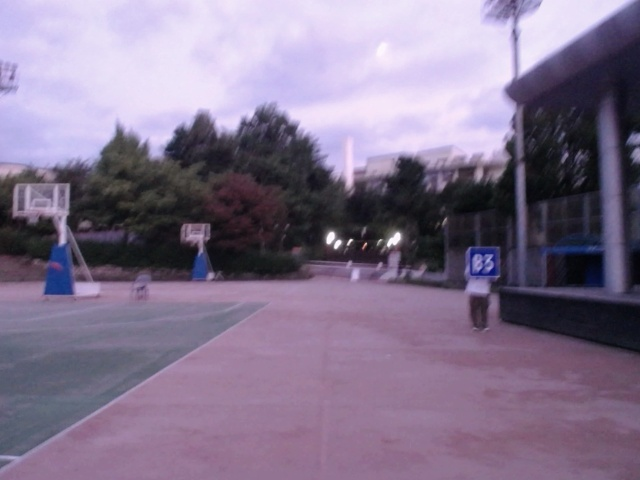delivery_b3: (467, 244, 501, 279)
